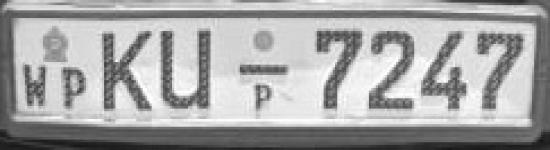-: (234, 58, 292, 82)
2: (369, 24, 420, 115)
4: (419, 26, 473, 118)
7: (304, 22, 367, 118), (473, 27, 529, 119)
K: (94, 25, 156, 120)
P: (55, 62, 92, 116)
U: (158, 26, 214, 118)
W: (18, 60, 51, 112)
